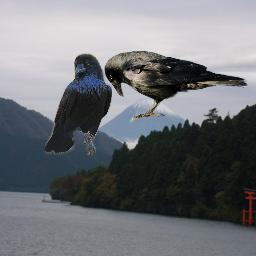Crow: (104, 50, 249, 123), (45, 53, 112, 155)
